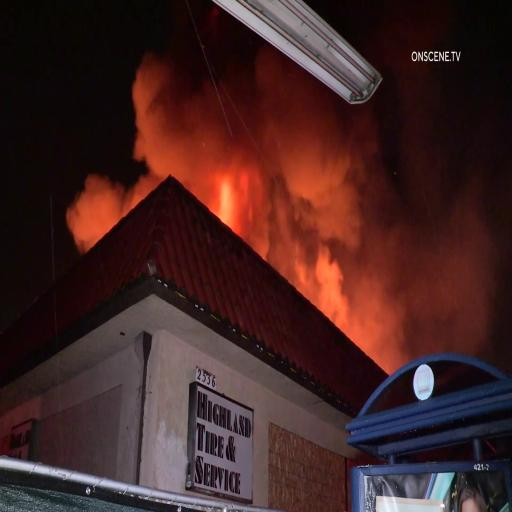smoke: (260, 116, 372, 234)
